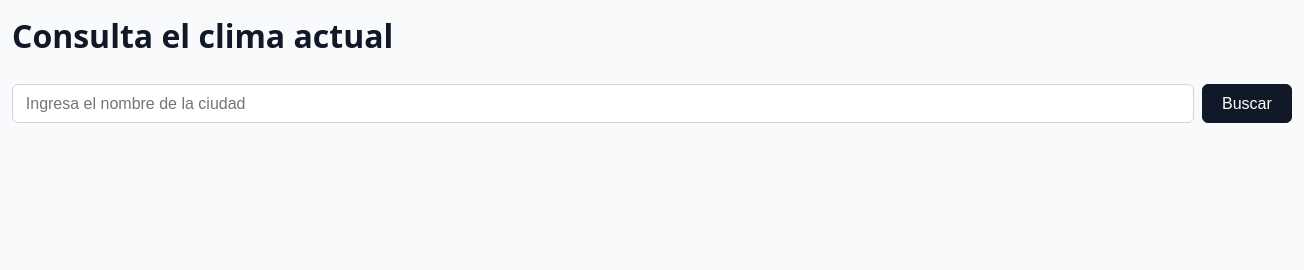
Test case: WeatherDashboard › permite realizar la búsqueda presionando la tecla Enter
Type "Madrid" into the field labelled "Ingresa el nombre de la ciudad".
click(603, 104); type("Madrid")  # box [12,84,1194,123]
Then press Enter
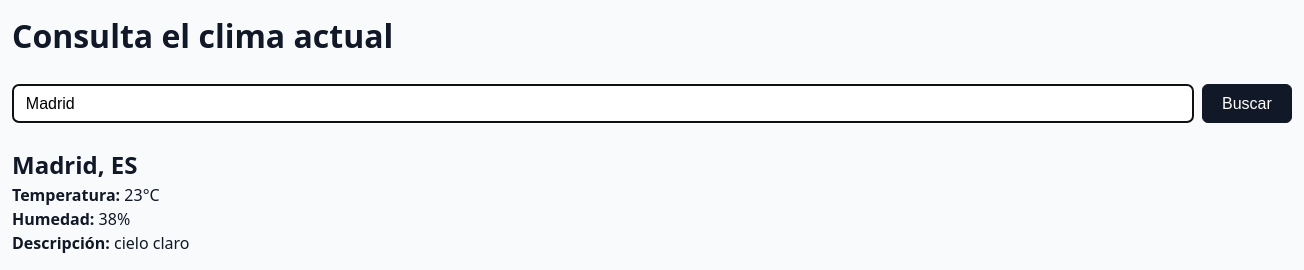
Now the heading "Madrid, ES" is shown, box [12,148,138,181]
